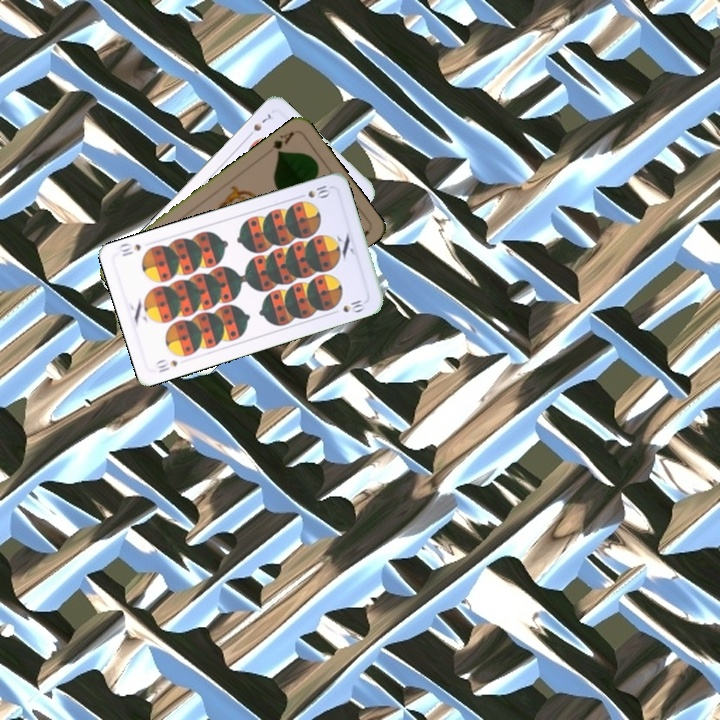GA: (269, 127, 297, 157)
S10: (293, 181, 333, 201), (151, 355, 180, 375)
S7: (243, 110, 274, 141)
